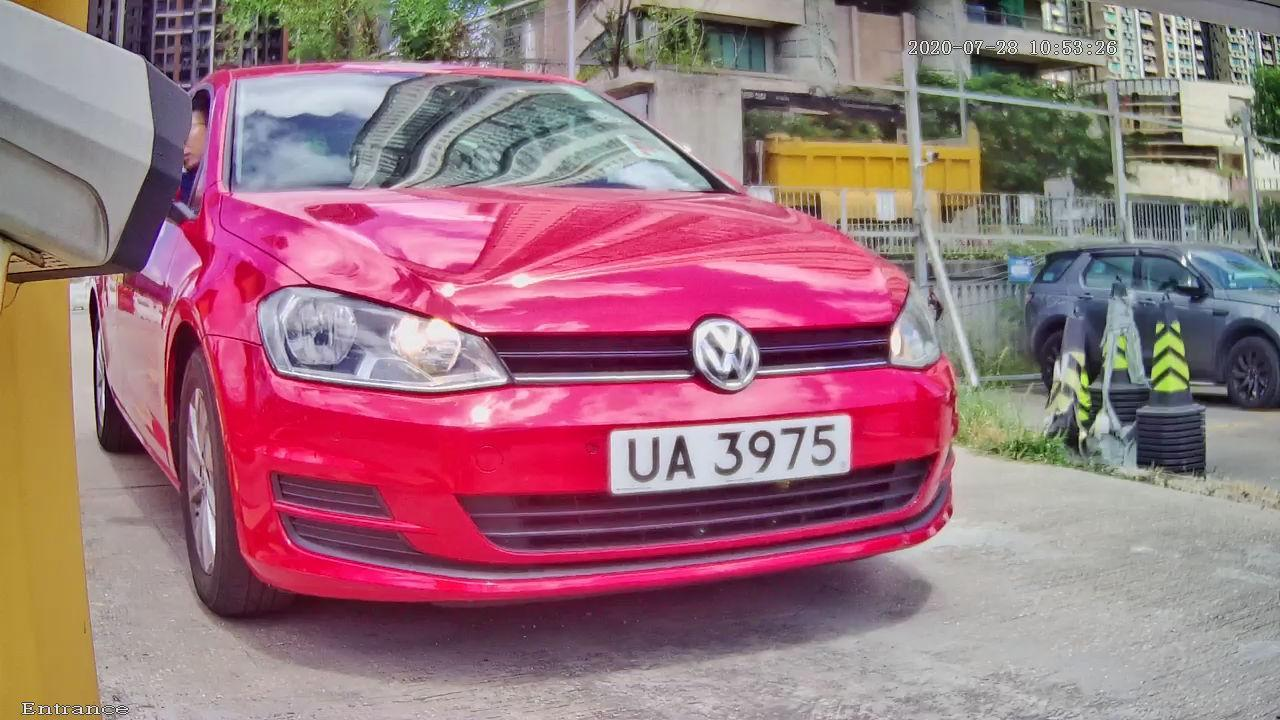privatecar: (35, 4, 1126, 676)
